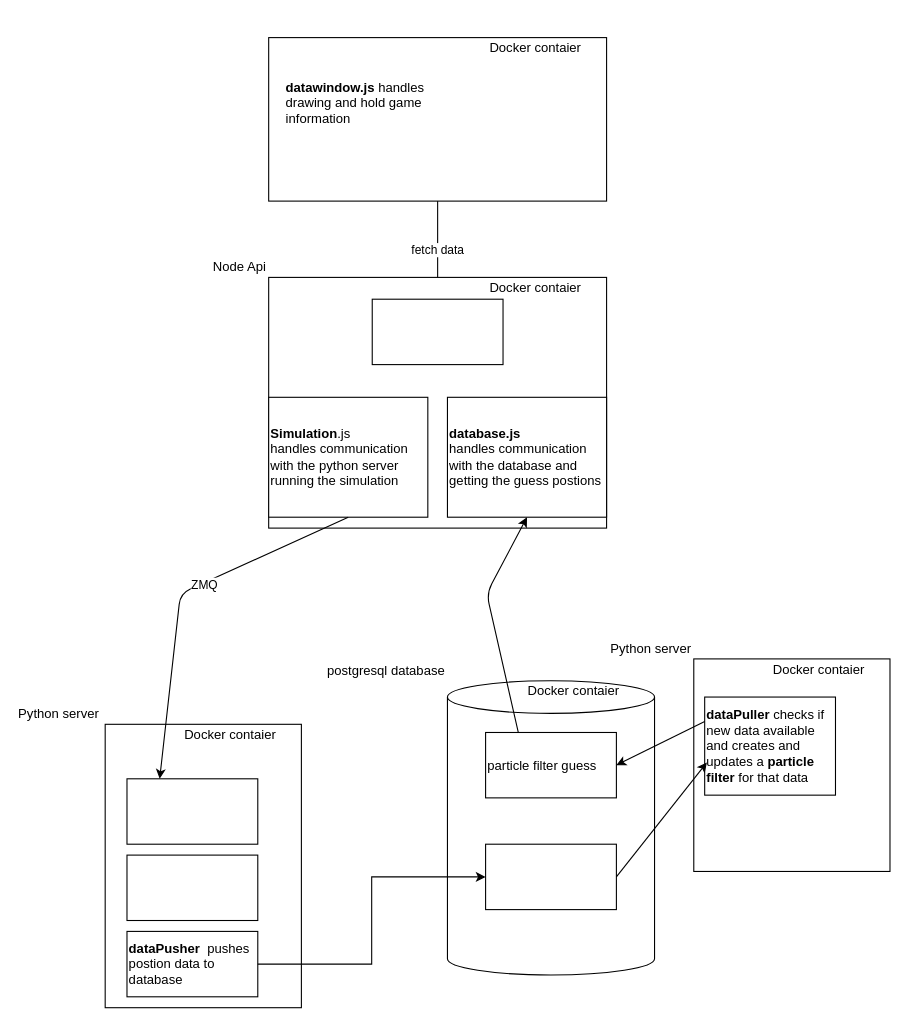
This 909x1027 diagram has some shape labels left out. Here are the shapes that lost their labels. From the top down, the box of each, then its label:
(268, 37, 607, 201): React client
(371, 298, 503, 365): Routes
(126, 778, 258, 844): pythonserver handles communications
(126, 854, 258, 921): SimpleBox handles simulation
(485, 843, 616, 910): Position data
